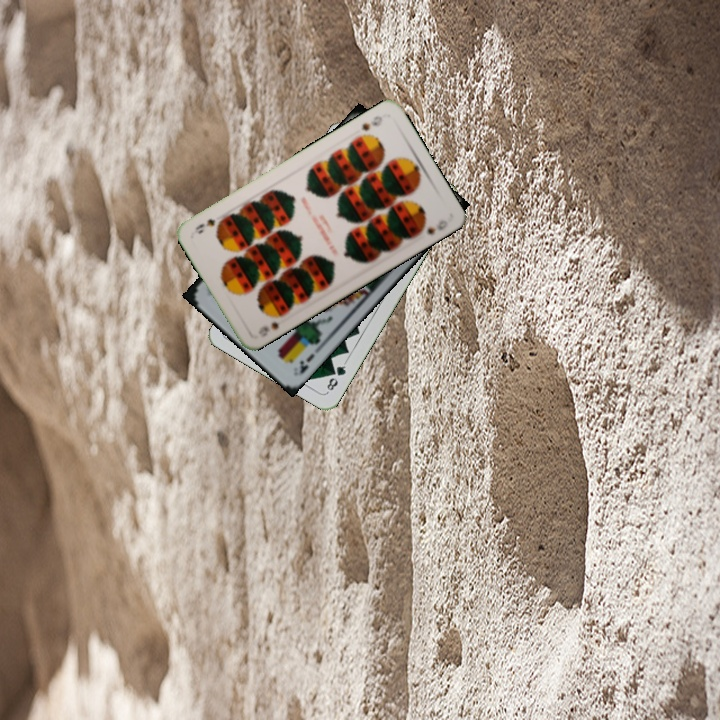EK: (293, 349, 317, 378)
G8: (322, 358, 349, 395)
S9: (254, 309, 287, 340), (358, 112, 385, 133)
